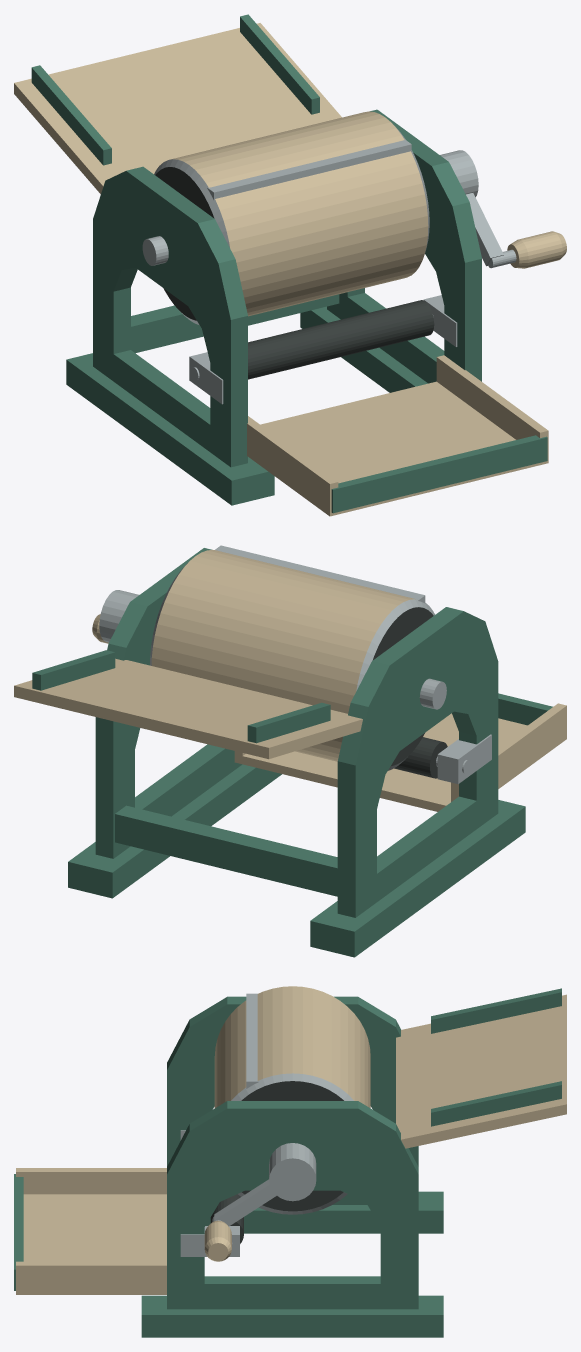
3 renders of one model, top to bottom at view 1: azimuth 30°, elevation 25°; view 2: azimuth 150°, elevation 25°; view 3: azimuth 270°, elevation 25°, orthographic. The views are drawn at different scales.
Parts seen in each view (by area): view 1: WholeBroadPlainRotaryDrum, WholeWindowedSideCastingLeft, WholeRearInclinedFeedTable, WholeLowFrontUReceivingPan, WholeWindowedSideCastingRight, WholeLongGroundShoeLeft, WholeLowerPlainPressureRoller, WholePanFrontStop, WholeRearLowerCrossTie, WholeRaisedLongDrumClampStrip, WholeLongGroundShoeRight, WholeRearFeedSideGuideLeft (+7 smaller); view 2: WholeBroadPlainRotaryDrum, WholeWindowedSideCastingLeft, WholeRearInclinedFeedTable, WholeWindowedSideCastingRight, WholeRearLowerCrossTie, WholeLongGroundShoeLeft, WholeLowFrontUReceivingPan, WholeLongGroundShoeRight, WholeLowerRollerBearingBracketLeft, WholeRearFeedSideGuideLeft, WholeRearFeedSideGuideRight, WholeRaisedLongDrumClampStrip (+4 smaller); view 3: WholeWindowedSideCastingRight, WholeLowFrontUReceivingPan, WholeRearInclinedFeedTable, WholeBroadPlainRotaryDrum, WholeLongGroundShoeRight, WholeWindowedSideCastingLeft, WholeLongGroundShoeLeft, WholeRearFeedSideGuideLeft, WholeRearFeedSideGuideRight, WholeOutboardCrankHub, WholeFixedCrankArm, WholeRaisedLongDrumClampStrip (+3 smaller).
Part boxes in pixels (x1,y1,x2,y2): WholeBroadPlainRotaryDrum: (154, 111, 429, 324); WholeWindowedSideCastingLeft: (93, 166, 247, 467); WholeRearInclinedFeedTable: (14, 23, 341, 194); WholeLowFrontUReceivingPan: (247, 355, 548, 516); WholeWindowedSideCastingRight: (327, 109, 481, 383); WholeLongGroundShoeLeft: (66, 353, 274, 505); WholeLowerPlainPressureRoller: (248, 300, 434, 379); WholePanFrontStop: (331, 435, 547, 513); WholeRearLowerCrossTie: (131, 294, 339, 353); WholeRaisedLongDrumClampStrip: (207, 139, 411, 200); WholeLongGroundShoeRight: (300, 306, 427, 392); WholeRearFeedSideGuideLeft: (31, 65, 111, 165); WholeBroadPlainRotaryDrum: (150, 549, 434, 770); WholeWindowedSideCastingLeft: (337, 607, 498, 917); WholeRearInclinedFeedTable: (14, 658, 362, 759); WholeWindowedSideCastingRight: (95, 548, 242, 858); WholeRearLowerCrossTie: (115, 805, 337, 896); WholeLongGroundShoeLeft: (310, 800, 525, 957); WholeLowFrontUReceivingPan: (234, 703, 566, 811); WholeLongGroundShoeRight: (68, 764, 281, 898); WholeLowerRollerBearingBracketLeft: (437, 734, 491, 784); WholeRearFeedSideGuideLeft: (247, 702, 330, 743); WholeRearFeedSideGuideRight: (32, 650, 115, 690); WholeRaisedLongDrumClampStrip: (215, 545, 425, 603); WholeWindowedSideCastingRight: (167, 1101, 418, 1309); WholeLowFrontUReceivingPan: (16, 1168, 166, 1294); WholeRearInclinedFeedTable: (396, 994, 566, 1148); WholeBroadPlainRotaryDrum: (214, 986, 370, 1214); WholeLongGroundShoeRight: (141, 1295, 443, 1337); WholeWindowedSideCastingLeft: (167, 996, 418, 1204); WholeLongGroundShoeLeft: (205, 1191, 443, 1233); WholeRearFeedSideGuideLeft: (431, 988, 561, 1033); WholeRearFeedSideGuideRight: (431, 1081, 561, 1126); WholeOutboardCrankHub: (269, 1143, 316, 1201); WholeFixedCrankArm: (214, 1179, 276, 1226); WholeRaisedLongDrumClampStrip: (246, 993, 258, 1088).
Bounding box in the file's own units: 0.778 × 0.54 × 1.1.
